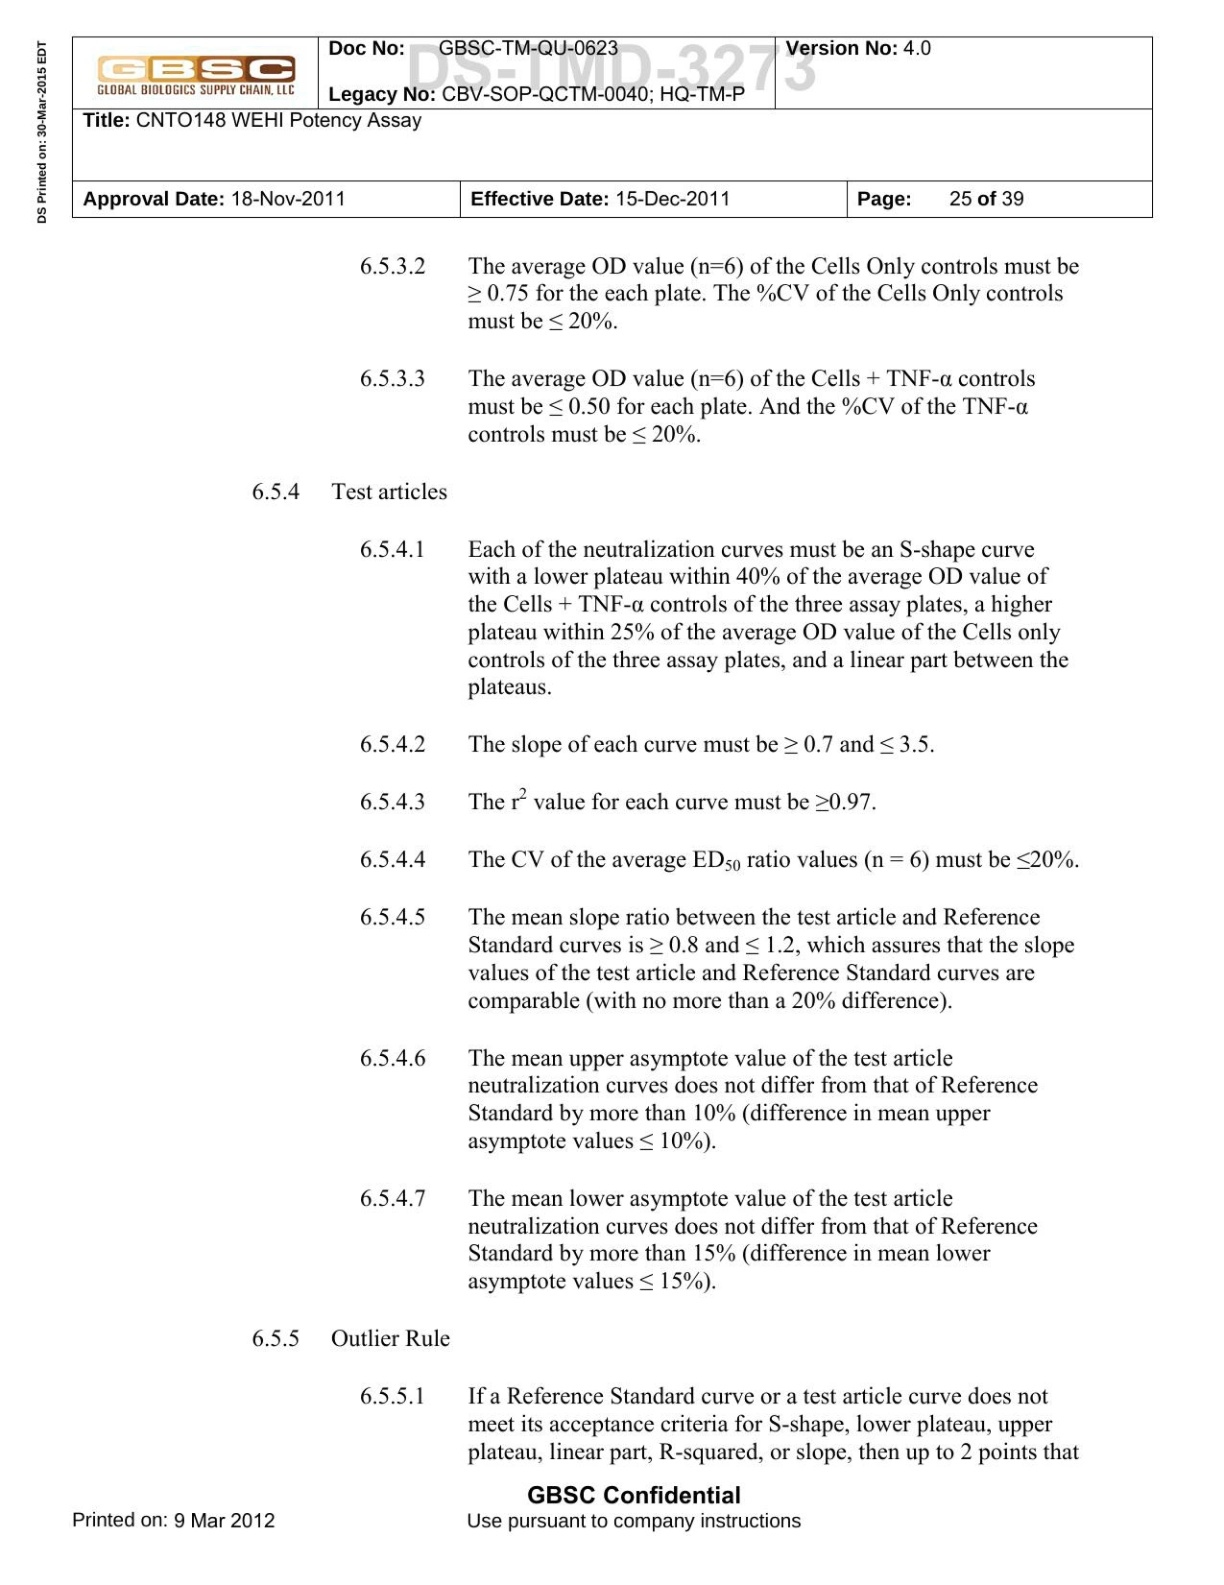merged_cells: (71, 35, 1155, 219)
